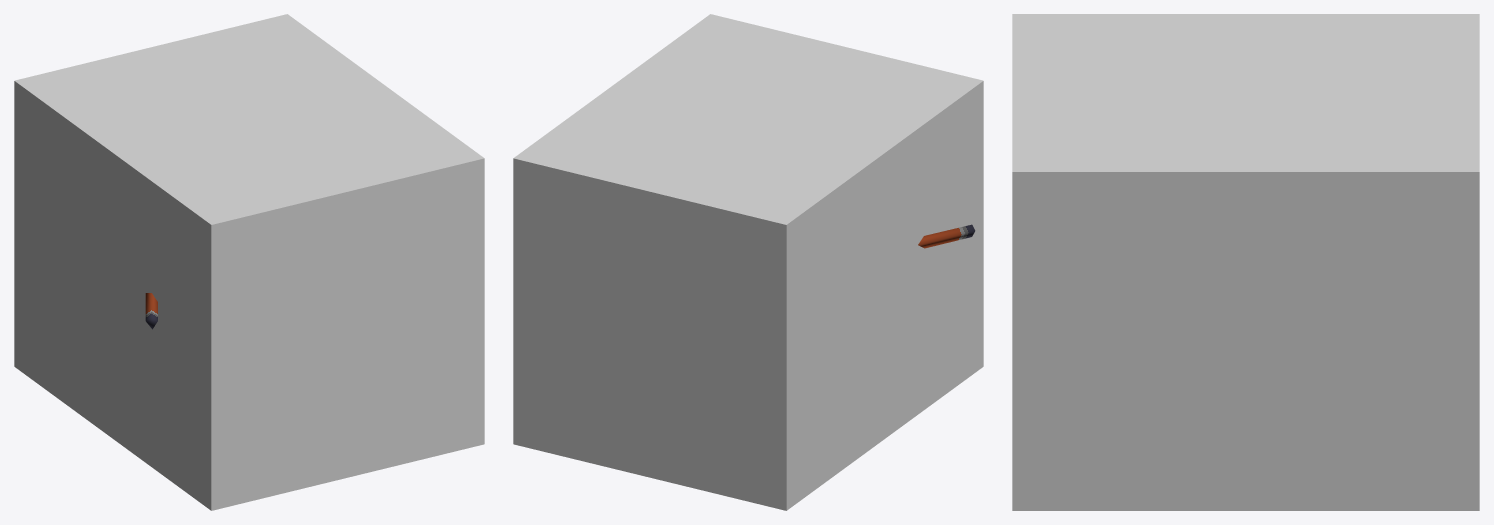
The model's file is tortimer2.gltf.
3 renders of one model, left to right at view 1: azimuth 30°, elevation 25°; view 2: azimuth 150°, elevation 25°; view 3: azimuth 270°, elevation 25°, orthographic. The views are drawn at different scales.
Visible parts, largest first — view 1: mesh_0_; view 2: mesh_0_; view 3: mesh_0_.
Boxes of the visible parts, x1,y1,x2,y2 form: mesh_0_: (14, 14, 484, 510); mesh_0_: (513, 14, 983, 510); mesh_0_: (1012, 14, 1479, 510).
Bounding box in the file's own units: 44.21 × 40 × 50.
5 materials, 4 textured.
